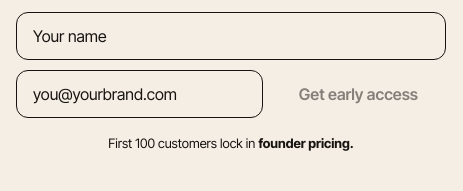
Scenario: WaitlistForm › disables submit until name + a valid email are entered
Expected: the button "Get early access" is disabled, [271, 70, 446, 118]
Type "Rushikesh" into the field labelled "Your name".
click(231, 36); type("Rushikesh")  # box [16, 12, 446, 60]
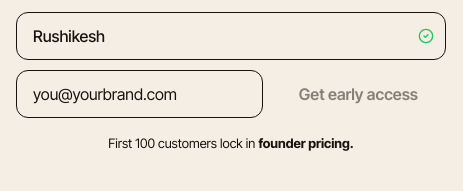
Type "not-an-email" into the field named "Business email".
click(139, 94); type("not-an-email")  # box [16, 70, 263, 118]
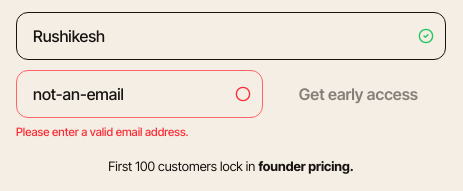
Expected: the button "Get early access" is disabled, [271, 70, 446, 118]
Replace the text in the field named "Business email" with "r@weeber.ai" at (139, 94), box [16, 70, 263, 118]
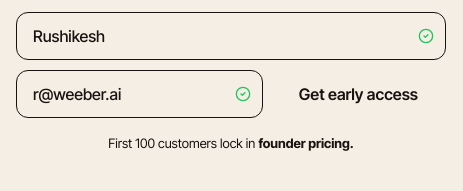
Now the button "Get early access" is enabled, box [271, 70, 446, 118]
